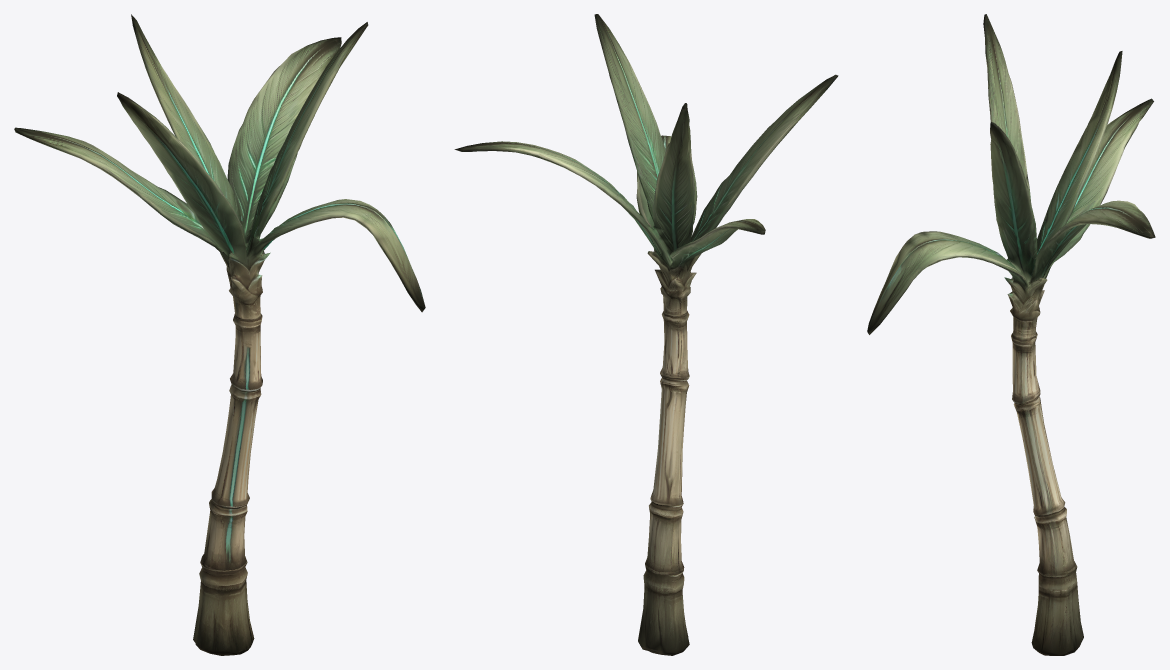
3 views of the same model, side by side, from view 1: azimuth 30°, elevation 25°; view 2: azimuth 150°, elevation 25°; view 3: azimuth 270°, elevation 25° (orthographic). The views are drawn at different scales.
Parts seen in each view (by area): view 1: Mesh_0; view 2: Mesh_0; view 3: Mesh_0.
Boxes of the visible parts, x1,y1,x2,y2 form: Mesh_0: (14,14,425,655); Mesh_0: (454,14,838,655); Mesh_0: (867,14,1155,655).
Size of the model in its own units: 1.05 by 1.91 by 0.872.
1 material, 1 textured.
